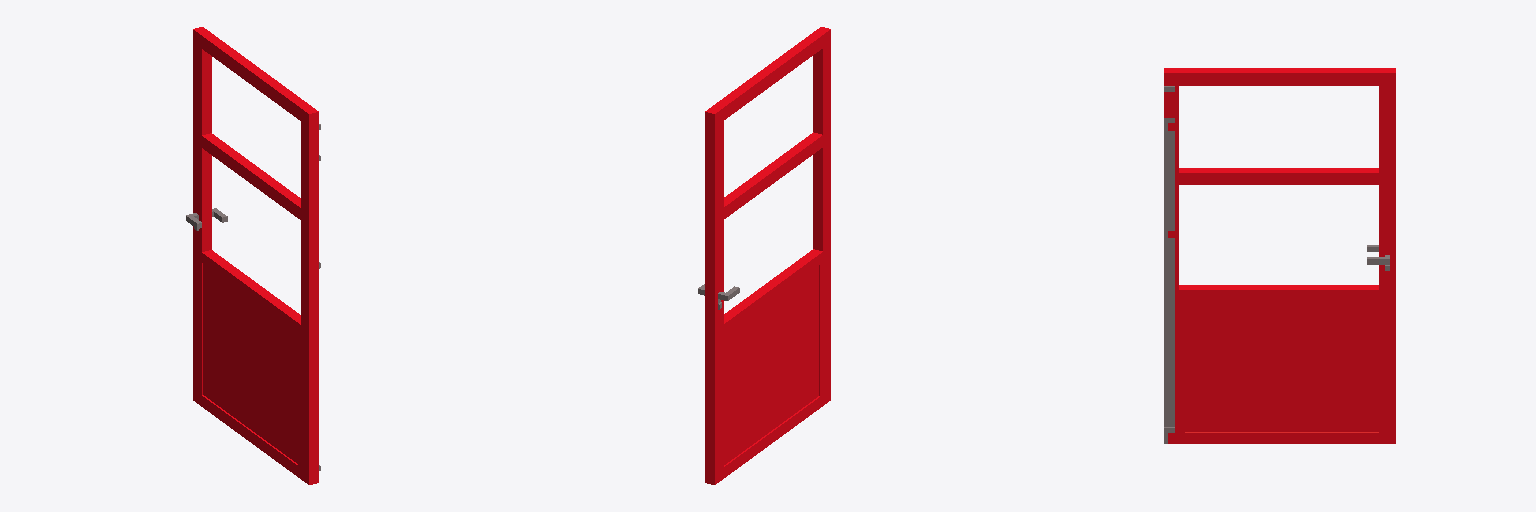
Rendered from DoorType_[4].obj.
3 renders of one model, left to right at view 1: azimuth 30°, elevation 25°; view 2: azimuth 150°, elevation 25°; view 3: azimuth 270°, elevation 25°, orthographic.
Visible parts, largest first — view 1: DoorType_[4]; view 2: DoorType_[4]; view 3: DoorType_[4].
Part boxes in pixels (x1,y1,x2,y2): DoorType_[4]: (186,27,320,484); DoorType_[4]: (698,27,830,484); DoorType_[4]: (1164,68,1395,443).
Size of the model in its own units: 0.18 by 2.12 by 1.2.